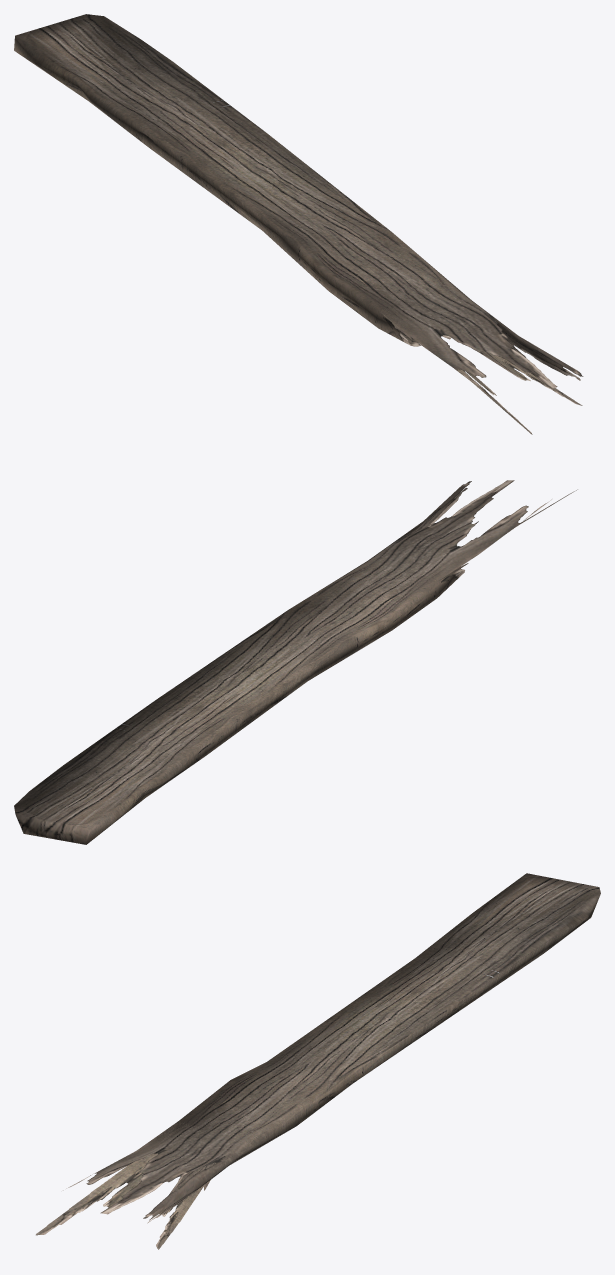
File: WPlank_Splinted_02.fbx
3 views of the same model, one above another, from view 1: azimuth 30°, elevation 25°; view 2: azimuth 150°, elevation 25°; view 3: azimuth 330°, elevation 25° (orthographic). The views are drawn at different scales.
Visible parts, largest first — view 1: WPlank_splinted_02; view 2: WPlank_splinted_02; view 3: WPlank_splinted_02.
Boxes of the visible parts, x1,y1,x2,y2 form: WPlank_splinted_02: (14, 14, 583, 434); WPlank_splinted_02: (14, 480, 577, 844); WPlank_splinted_02: (36, 873, 600, 1249).
Size of the model in its own units: 0.7855 by 0.3196 by 6.33.
